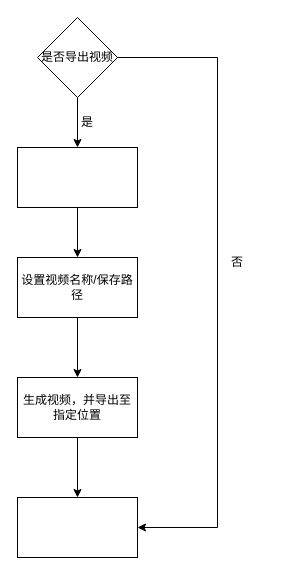
Some shapes in this 285 by 575 pixel diagram are drawn without their labels. Each missing label, with the box of its shape:
程序结束: (16, 496, 138, 558)
设置视频倍速: (16, 146, 138, 208)
